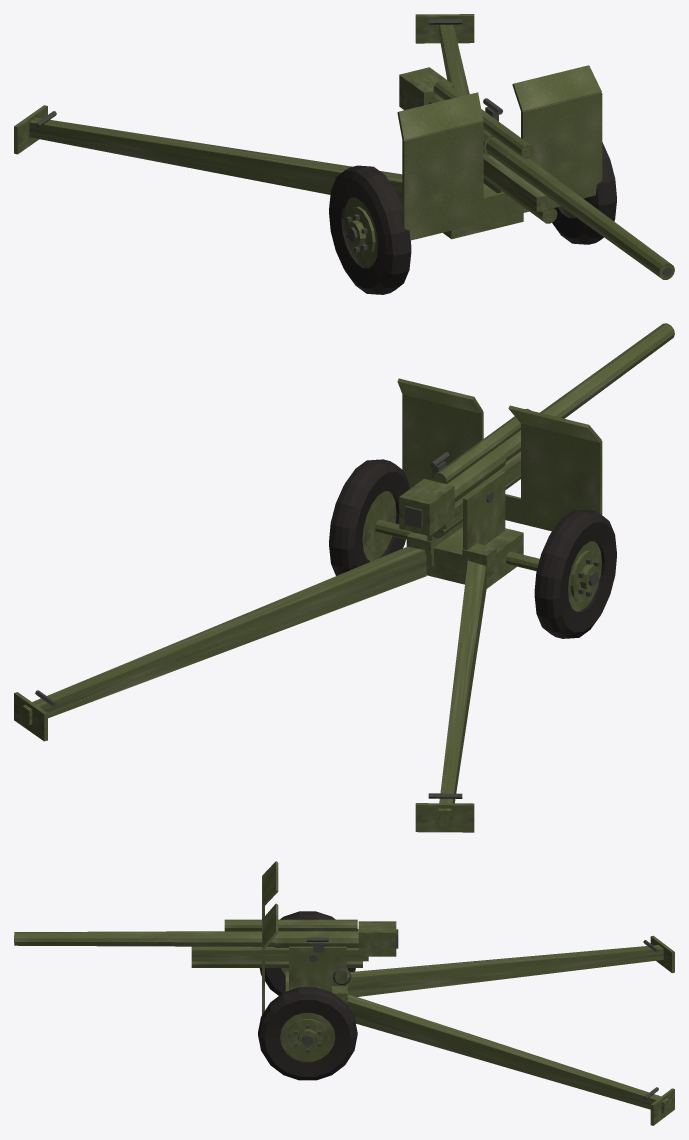
Rendered from artillery.glb.
3 renders of one model, top to bottom at view 1: azimuth 30°, elevation 25°; view 2: azimuth 150°, elevation 25°; view 3: azimuth 270°, elevation 25°, orthographic. The views are drawn at different scales.
Visible parts, largest first — view 1: bouclier, longeron_right, pneu_right, rabat, tube, pneu_left, recuperateur, berceau, culasse, beche_left, jante_right, longeron_left (+2 smaller); view 2: bouclier, longeron_left, pneu_right, pneu_left, longeron_right, tube, flasques, rabat, corps, culasse, recuperateur, beche_right (+6 smaller); view 3: longeron_left, longeron_right, pneu_left, tube, recuperateur, flasques, jante_left, berceau, culasse, rabat, pneu_right, beche_left (+1 smaller).
Boxes of the visible parts, left/top/right/bottom form: bouclier: left=402, top=92, right=602, bottom=240; longeron_right: left=29, top=117, right=402, bottom=203; pneu_right: left=329, top=165, right=411, bottom=294; rabat: left=397, top=65, right=601, bottom=140; tube: left=429, top=94, right=674, bottom=279; pneu_left: left=552, top=142, right=616, bottom=244; recuperateur: left=433, top=81, right=557, bottom=223; berceau: left=483, top=153, right=560, bottom=212; culasse: left=399, top=67, right=454, bottom=110; beche_left: left=415, top=14, right=474, bottom=43; jante_right: left=344, top=197, right=377, bottom=267; longeron_left: left=439, top=24, right=469, bottom=95; bouclier: left=402, top=394, right=602, bottom=531; longeron_left: left=22, top=547, right=426, bottom=725; pneu_right: left=534, top=509, right=616, bottom=638; pneu_left: left=329, top=459, right=409, bottom=575; longeron_right: left=438, top=560, right=486, bottom=825; tube: left=447, top=323, right=674, bottom=502; flasques: left=427, top=471, right=505, bottom=574; rabat: left=397, top=378, right=601, bottom=442; corps: left=426, top=527, right=523, bottom=588; culasse: left=399, top=479, right=454, bottom=536; recuperateur: left=432, top=408, right=530, bottom=538; beche_right: left=415, top=803, right=474, bottom=832; longeron_left: left=346, top=994, right=668, bottom=1113; longeron_right: left=346, top=945, right=663, bottom=996; pneu_left: left=258, top=987, right=357, bottom=1080; tube: left=14, top=929, right=358, bottom=947; recuperateur: left=191, top=919, right=362, bottom=967; flasques: left=289, top=946, right=346, bottom=992; jante_left: left=280, top=1013, right=335, bottom=1061; berceau: left=191, top=946, right=368, bottom=961; culasse: left=358, top=921, right=396, bottom=956; rabat: left=262, top=861, right=278, bottom=949; pneu_right: left=259, top=911, right=355, bottom=995; beche_left: left=650, top=1088, right=674, bottom=1125.
Size of the model in its own units: 1.4 by 0.5573 by 2.3.
3 materials, 1 textured.
